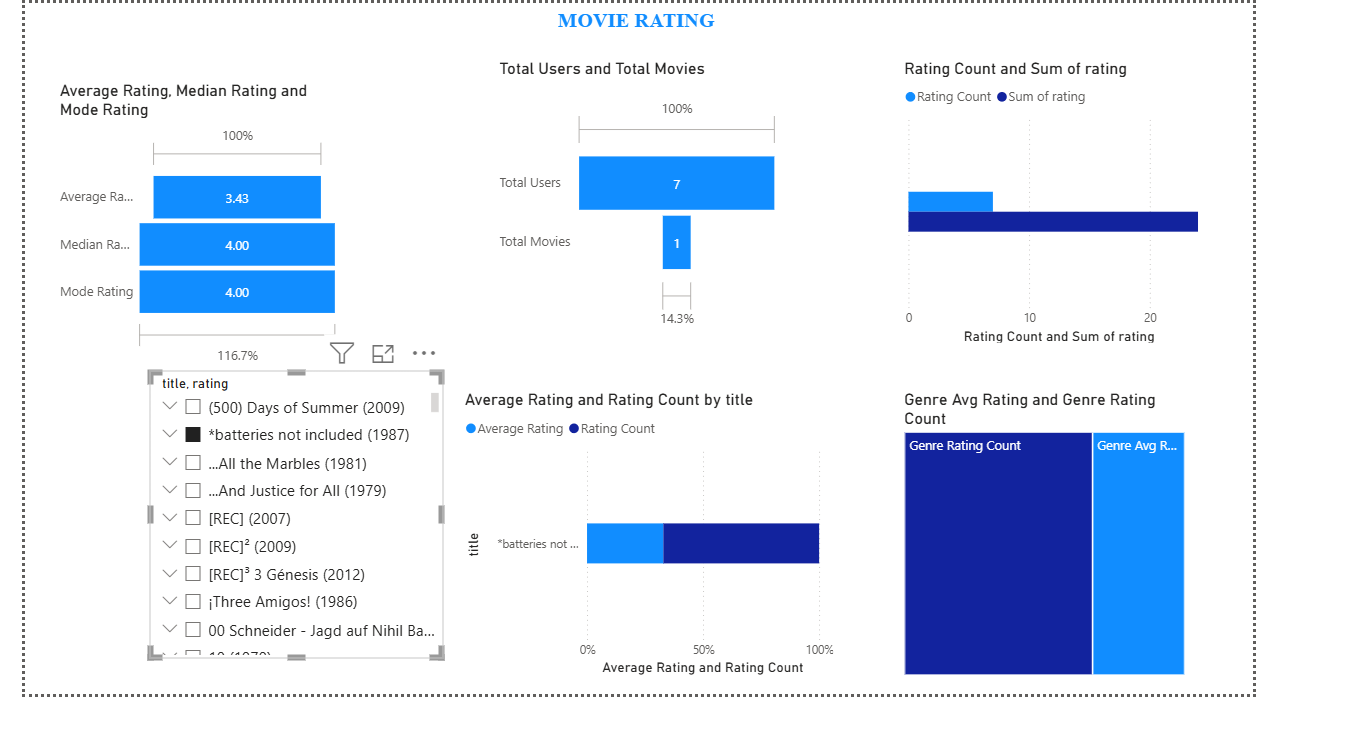

Layout of this report page (visuals, bound fields, positions):
{"tool":"powerbi","page":{"name":"Page 1","canvas":[1280,720],"ordinal":0},"visuals":[{"type":"funnel","fields":{"Y":["ratings.Average Rating","ratings.Median Rating","ratings.Mode Rating"]},"box":[155.4,58.3,301.2,301.2],"z":0},{"type":"funnel","fields":{"Y":["ratings.Total Users","ratings.Total Movies"]},"box":[500.3,58.3,301.2,301.2],"z":1000},{"type":"clusteredBarChart","fields":{"Y":["ratings.Rating Count","Sum(ratings.rating)"]},"box":[871.1,58.3,301.2,301.2],"z":2000},{"type":"slicer","fields":{"Values":["ratings.title","ratings.rating"]},"box":[129.5,382.1,306,301.2],"z":3000},{"type":"hundredPercentStackedBarChart","fields":{"Category":["ratings.title"],"Y":["ratings.Average Rating","ratings.Rating Count"]},"box":[550.5,403.2,239.6,301.2],"z":4000},{"type":"treemap","fields":{"Values":["ratings.Genre Avg Rating","ratings.Genre Rating Count"]},"box":[850.1,403.2,301.2,301.2],"z":5000}]}

Visuals, with their boxes on the page's 1280x720 design canvas (x1, y1, x2, y2). These are canvas units, not pixel positions in the 1351x733 screenshot, which may show the page scaled, cropped or inside an application window:
funnel - ratings.Average Rating x ratings.Median Rating: <bbox>155, 58, 457, 360</bbox>
funnel - ratings.Total Users x ratings.Total Movies: <bbox>500, 58, 802, 360</bbox>
clusteredBarChart - ratings.Rating Count x Sum(ratings.rating): <bbox>871, 58, 1172, 360</bbox>
slicer - ratings.title x ratings.rating: <bbox>130, 382, 436, 683</bbox>
hundredPercentStackedBarChart - ratings.title x ratings.Average Rating: <bbox>550, 403, 790, 704</bbox>
treemap - ratings.Genre Avg Rating x ratings.Genre Rating Count: <bbox>850, 403, 1151, 704</bbox>
